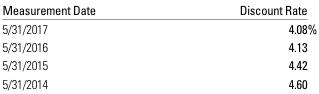table: (1, 1, 316, 90)
table column: (1, 1, 166, 90), (166, 1, 316, 90)
table column header: (1, 1, 316, 18)
table row: (1, 18, 316, 37), (1, 37, 316, 55), (1, 55, 316, 73), (1, 1, 316, 18), (1, 73, 316, 90)
